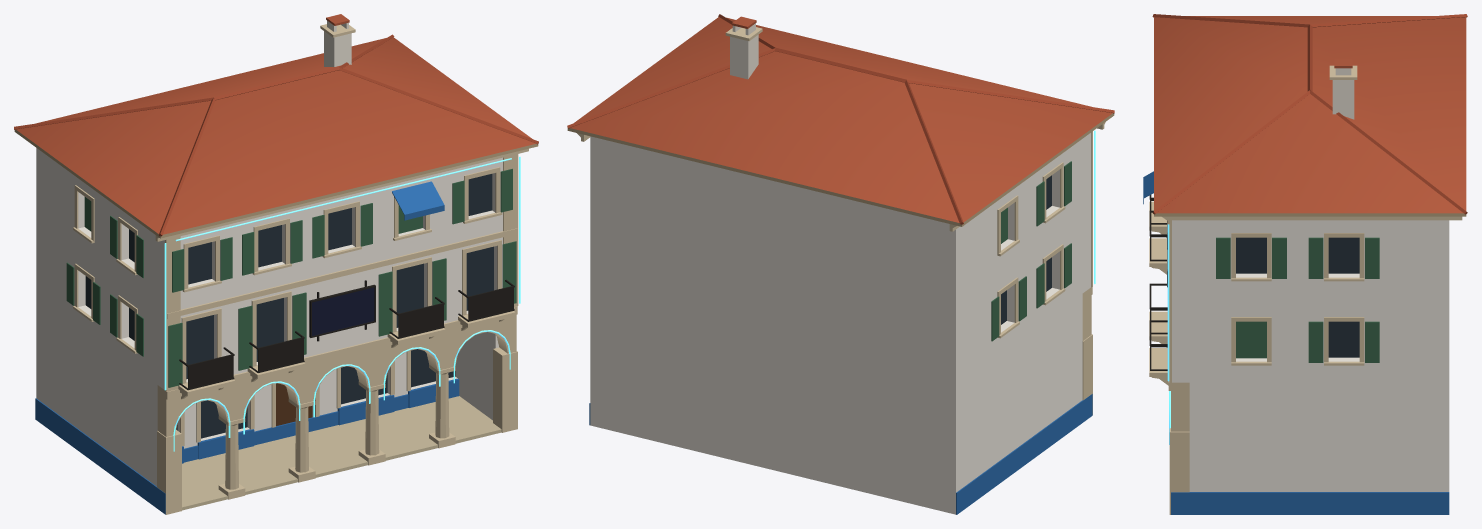
3 renders of one model, left to right at view 1: azimuth 30°, elevation 25°; view 2: azimuth 150°, elevation 25°; view 3: azimuth 270°, elevation 25°, orthographic. The views are drawn at different scales.
Visible parts, largest first — view 1: projects.lod1; view 2: projects.lod1; view 3: projects.lod1.
Part boxes in pixels (x1,y1,x2,y2): projects.lod1: [14, 14, 538, 514]; projects.lod1: [567, 14, 1114, 514]; projects.lod1: [1143, 14, 1467, 514].
Bounding box in the file's own units: 15.2 × 14.31 × 10.5.
